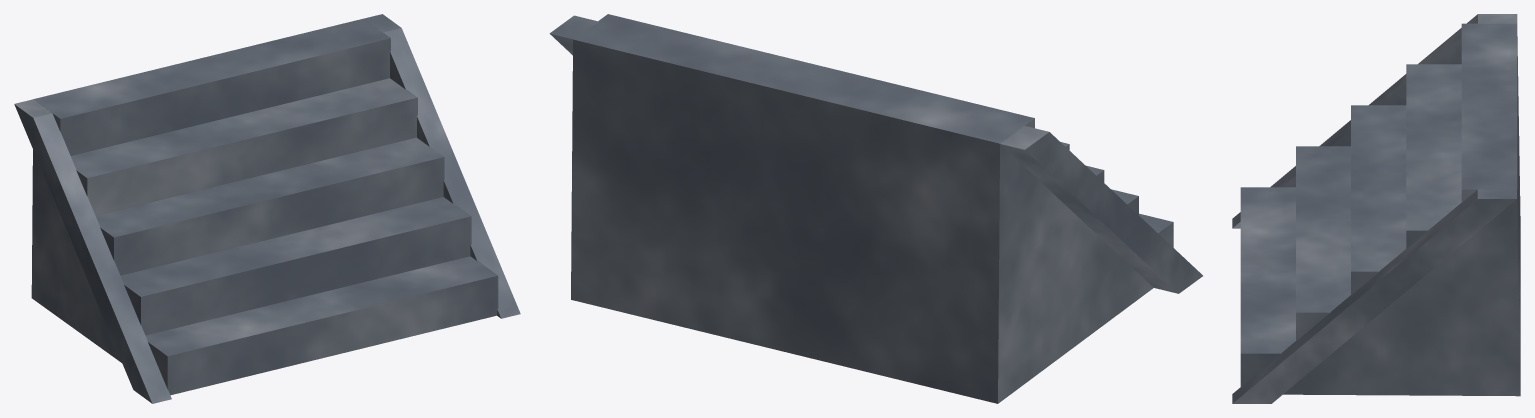
File: new_stairs.fbx
3 views of the same model, side by side, from view 1: azimuth 30°, elevation 25°; view 2: azimuth 150°, elevation 25°; view 3: azimuth 270°, elevation 25° (orthographic). The views are drawn at different scales.
Parts seen in each view (by area): view 1: Stairs1; view 2: Stairs1; view 3: Stairs1.
Boxes of the visible parts, bbox=[...] form: Stairs1: bbox=[14, 14, 520, 403]; Stairs1: bbox=[549, 14, 1202, 403]; Stairs1: bbox=[1232, 14, 1520, 403].
Bounding box in the file's own units: 400 × 208 × 264.
1 material, 1 textured.
